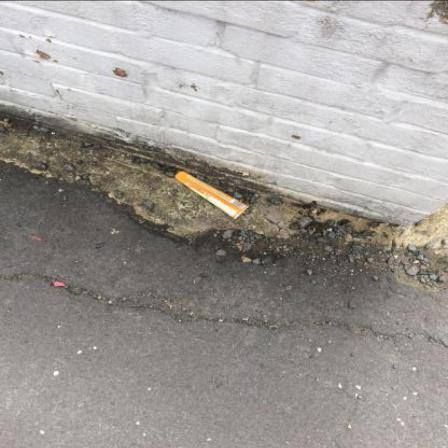Carton: (176, 173, 250, 221)
